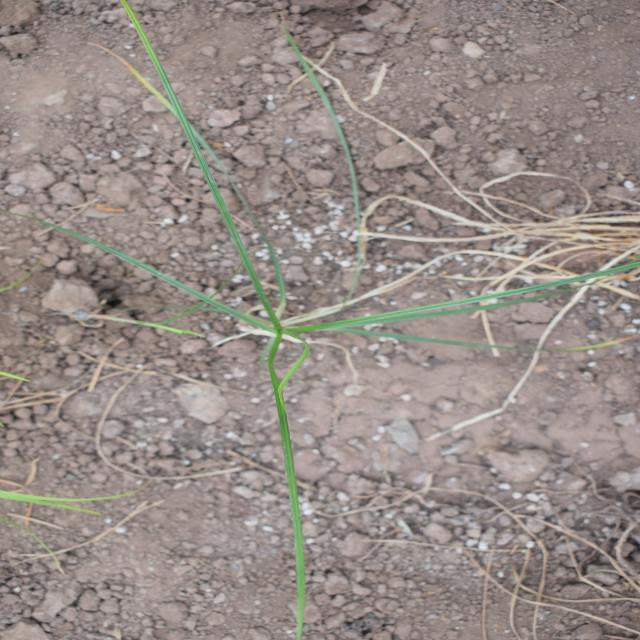sedge: (58, 128, 567, 604)
